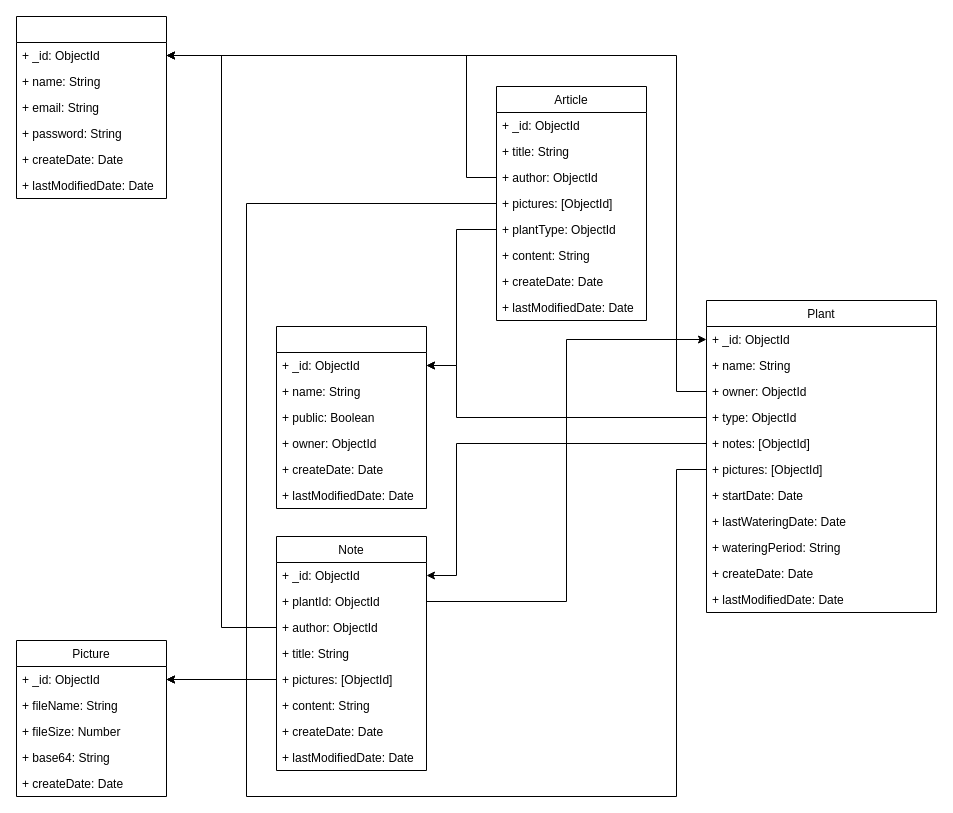
Image size: 953x813. Some labels were removed from this diagram. Here are the shapes that lost their labels. From the top down, the box of each, then its label:
(16, 16, 166, 198): User
(276, 326, 426, 508): Type
